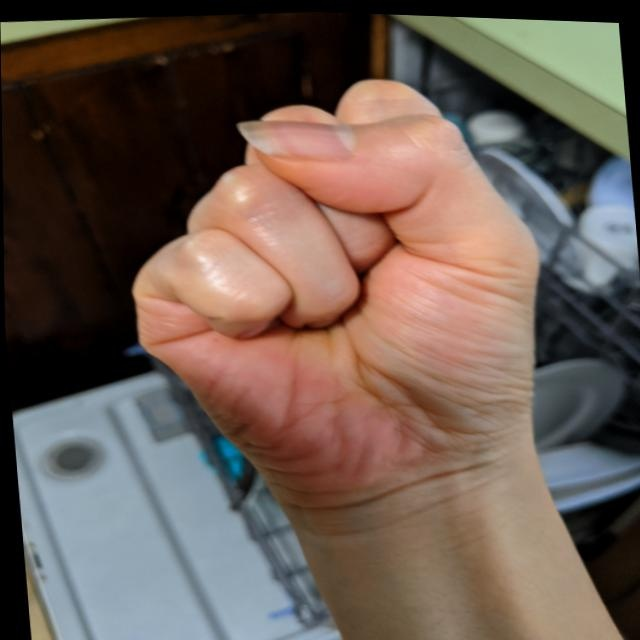S: (102, 51, 568, 547)
